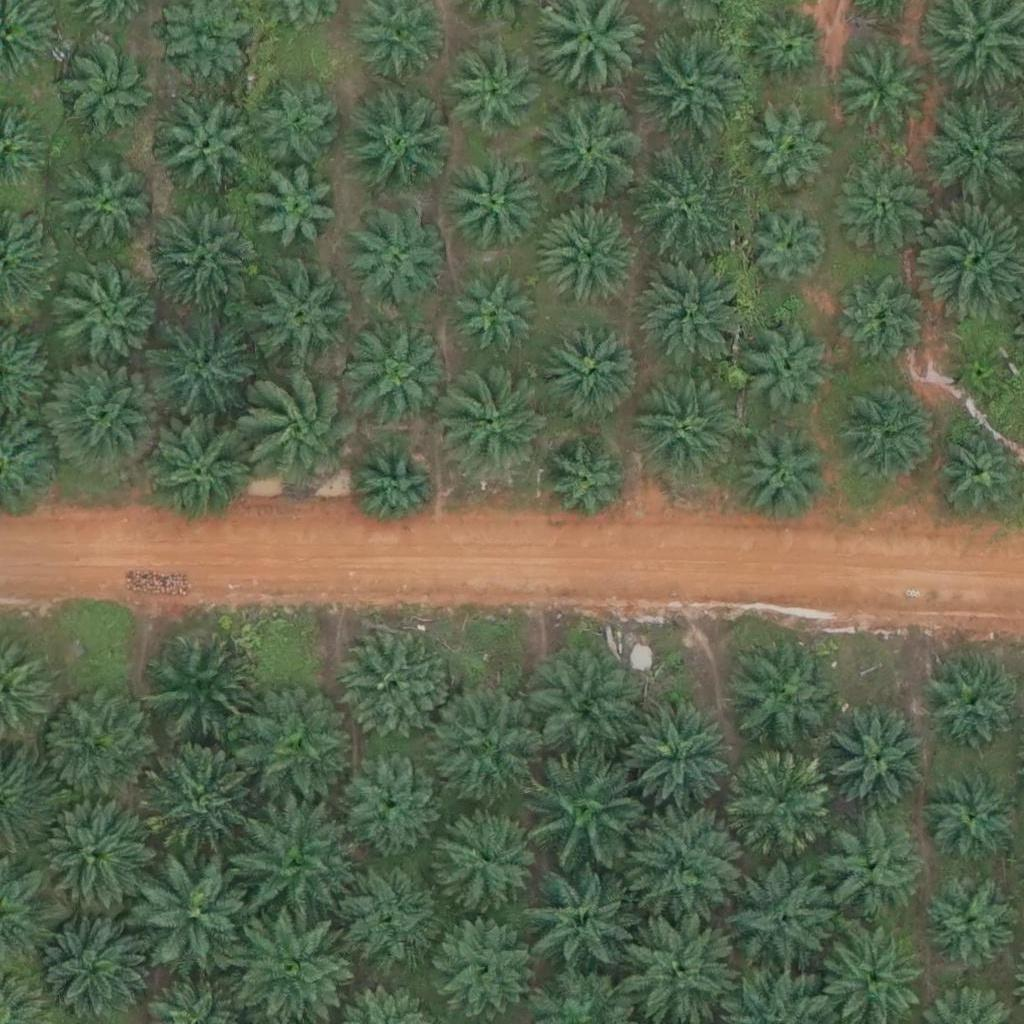Kelapa_Sawit: (241, 371, 366, 497), (727, 636, 840, 750), (625, 700, 738, 814), (625, 909, 738, 1023), (138, 854, 251, 968), (639, 31, 752, 145), (723, 750, 836, 863), (621, 814, 734, 927), (531, 751, 644, 864), (338, 632, 451, 745), (236, 693, 349, 806), (39, 689, 152, 802), (40, 793, 153, 906), (145, 208, 258, 321), (145, 309, 258, 422), (141, 416, 254, 529), (812, 816, 924, 930), (726, 860, 838, 974), (435, 689, 547, 803), (627, 372, 739, 486), (525, 864, 637, 977), (529, 652, 641, 765), (329, 860, 441, 973), (239, 808, 351, 921), (148, 629, 260, 742), (141, 740, 253, 853), (630, 150, 742, 263), (638, 262, 750, 375), (532, 94, 644, 207), (442, 368, 554, 481), (241, 260, 353, 373), (50, 364, 162, 477), (922, 654, 1022, 755), (825, 712, 925, 813), (437, 805, 537, 906), (339, 746, 439, 847), (838, 385, 938, 486), (732, 429, 832, 530), (543, 320, 643, 421), (448, 45, 548, 146), (444, 156, 544, 257), (348, 96, 448, 197), (345, 205, 445, 306), (161, 101, 261, 202), (59, 34, 159, 135), (55, 266, 155, 367), (920, 873, 1020, 973), (923, 768, 1023, 868), (436, 916, 536, 1016), (542, 203, 642, 303), (350, 328, 450, 428), (839, 160, 927, 248), (748, 111, 836, 199), (744, 205, 832, 293), (544, 443, 632, 531), (936, 426, 1023, 515), (456, 271, 543, 360), (844, 56, 931, 144), (837, 276, 924, 364), (743, 8, 830, 96), (744, 322, 831, 410), (351, 443, 438, 531), (255, 79, 342, 167), (252, 167, 339, 255), (63, 162, 150, 250), (952, 344, 1015, 407)
